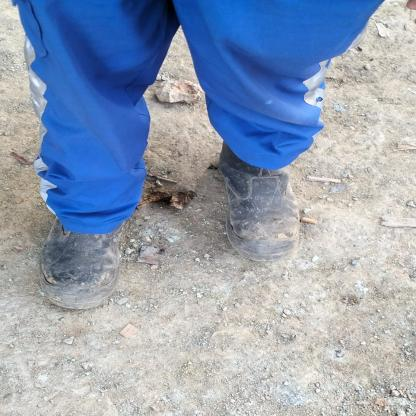bota: (205, 140, 306, 265), (35, 185, 128, 316)
